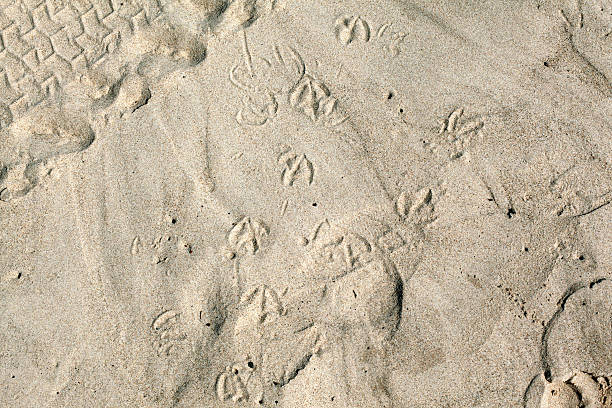animal_foot_print: (219, 215, 405, 406), (229, 35, 347, 126), (0, 105, 94, 200), (424, 107, 483, 160), (334, 15, 407, 56), (289, 74, 346, 126), (539, 371, 611, 407), (130, 233, 192, 264), (225, 217, 268, 258), (215, 358, 254, 402), (394, 187, 436, 225), (151, 310, 185, 355), (277, 147, 313, 186), (334, 16, 370, 44)
